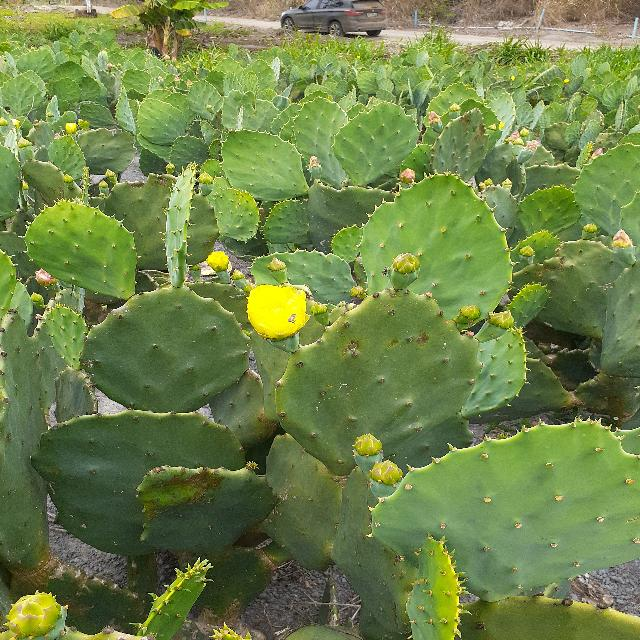Cortar: (102, 74, 364, 344), (166, 355, 344, 640), (0, 344, 167, 640), (353, 312, 507, 546)
